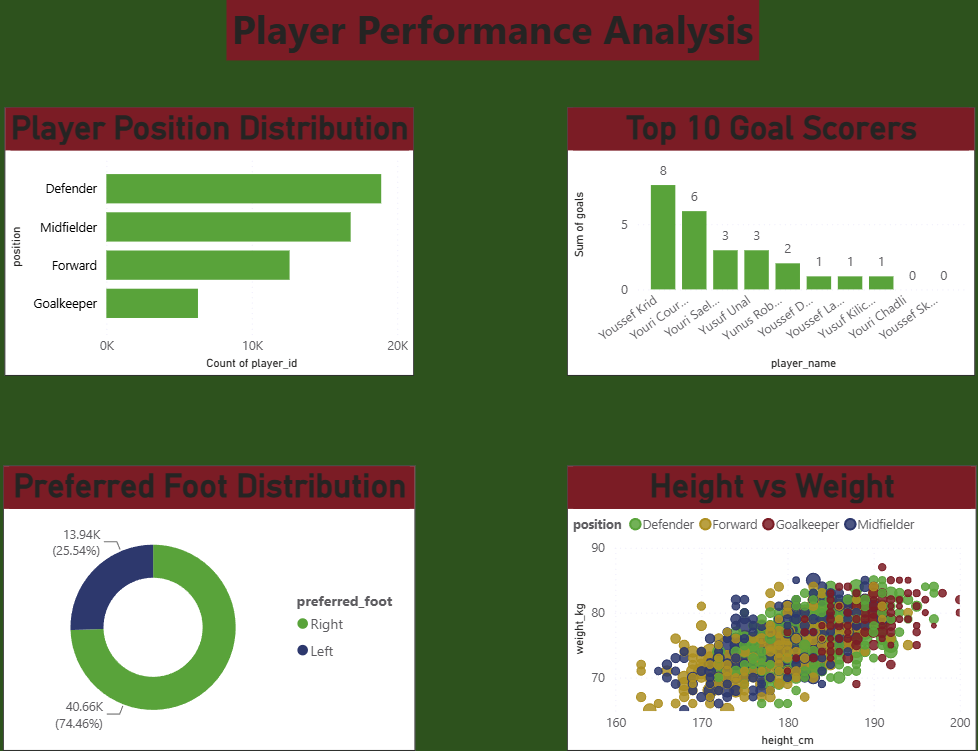

The page's visual inventory and layout, read from the dashboard file:
{"tool":"powerbi","page":{"name":"Page 2","canvas":[1280,720],"ordinal":1},"visuals":[{"type":"barChart","title":"Player Position Distribution","fields":{"Category":["fifa_Cleaned.position"],"Y":["CountNonNull(fifa_Cleaned.player_id)"]},"box":[124.3,105.7,390,255.7],"z":0},{"type":"donutChart","title":"Preferred Foot Distribution","fields":{"Category":["fifa_Cleaned.preferred_foot"],"Y":["CountNonNull(fifa_Cleaned.player_id)"]},"box":[122.9,447.1,392.9,272.9],"z":1000},{"type":"clusteredColumnChart","title":"Top 10 Goal Scorers","fields":{"Category":["fifa_Cleaned.player_name"],"Y":["Sum(fifa_Cleaned.goals)"]},"box":[660,105.7,388.6,255.7],"z":2000},{"type":"scatterChart","title":"Height vs Weight","fields":{"X":["fifa_Cleaned.height_cm"],"Y":["fifa_Cleaned.weight_kg"],"Size":["Sum(fifa_Cleaned.player_rating)"],"Series":["fifa_Cleaned.position"]},"box":[660,447.1,390,272.9],"z":3000},{"type":"textbox","box":[335.7,0,507.1,61.4],"z":4000}]}

Visuals, with their boxes on the page's 1280x720 design canvas (x1, y1, x2, y2). These are canvas units, not pixel positions in the 978x751 screenshot, which may show the page scaled, cropped or inside an application window:
"Player Position Distribution" barChart: region(124, 106, 514, 361)
"Preferred Foot Distribution" donutChart: region(123, 447, 516, 720)
"Top 10 Goal Scorers" clusteredColumnChart: region(660, 106, 1049, 361)
"Height vs Weight" scatterChart: region(660, 447, 1050, 720)
textbox: region(336, 0, 843, 61)
